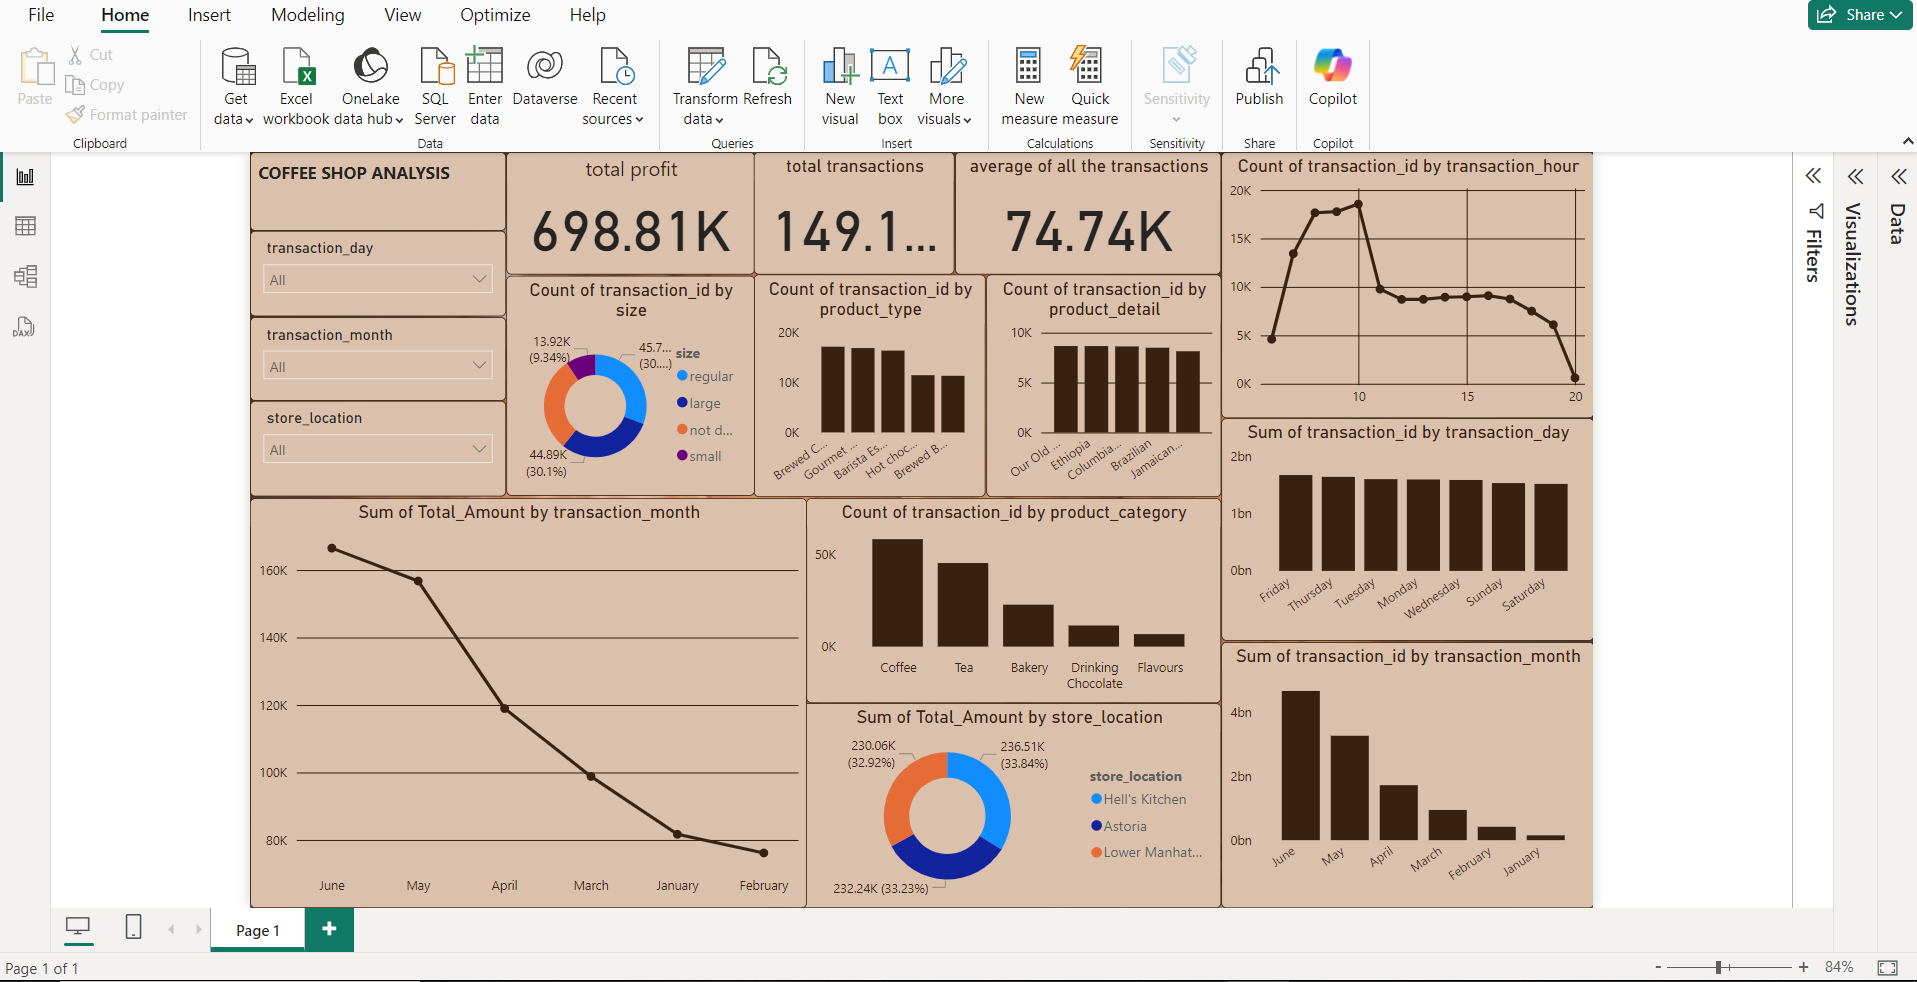

Layout of this report page (visuals, bound fields, positions):
{"tool":"powerbi","page":{"name":"Page 1","canvas":[1280,720],"ordinal":0},"visuals":[{"type":"textbox","box":[0,0,243.7,75.5],"z":0},{"type":"lineChart","fields":{"Y":["CountNonNull(Sheet1.transaction_id)"],"Category":["Sheet1.transaction_hour"]},"box":[925.1,0,354.9,253.7],"z":1000},{"type":"columnChart","fields":{"Category":["Sheet1.transaction_day"],"Y":["Sum(Sheet1.transaction_id)"]},"box":[925.1,253.7,354.9,212.4],"z":2000},{"type":"columnChart","fields":{"Y":["Sum(Sheet1.transaction_id)"],"Category":["Sheet1.transaction_month"]},"box":[925.1,466.1,354.9,253.7],"z":3000},{"type":"donutChart","fields":{"Category":["Sheet1.store_location"],"Y":["Sum(Sheet1.Total_Amount)"]},"box":[520.3,524.5,404.8,195.3],"z":4000},{"type":"lineChart","fields":{"Category":["Sheet1.transaction_month"],"Y":["Sum(Sheet1.Total_Amount)"]},"box":[0,329.3,530.2,390.6],"z":5000},{"type":"columnChart","fields":{"Category":["Sheet1.product_category"],"Y":["CountNonNull(Sheet1.transaction_id)"]},"box":[530.2,329.3,394.8,195.3],"z":6000},{"type":"columnChart","fields":{"Category":["Sheet1.product_detail"],"Y":["CountNonNull(Sheet1.transaction_id)"]},"box":[701.3,116.9,223.8,212.4],"z":7000},{"type":"slicer","fields":{"Values":["Sheet1.transaction_month"]},"box":[0,156.8,243.7,79.8],"z":8000},{"type":"card","title":"total profit","fields":{"Values":["Sum(Sheet1.Total_Amount)"]},"box":[243.7,0,236.6,116.9],"z":9000},{"type":"card","title":"total transactions","fields":{"Values":["CountNonNull(Sheet1.transaction_id)"]},"box":[480.4,0,191,116.9],"z":10000},{"type":"slicer","fields":{"Values":["Sheet1.store_location"]},"box":[0,236.6,243.7,91.2],"z":11000},{"type":"columnChart","fields":{"Category":["Sheet1.product_type"],"Y":["CountNonNull(Sheet1.transaction_id)"]},"box":[480.4,116.9,220.9,212.4],"z":12000},{"type":"slicer","fields":{"Values":["Sheet1.transaction_day"]},"box":[0,75.5,243.7,81.2],"z":13000},{"type":"donutChart","fields":{"Category":["Sheet1.size"],"Y":["CountNonNull(Sheet1.transaction_id)"]},"box":[243.7,118.3,236.6,209.5],"z":14000},{"type":"card","title":"average of all the transactions","fields":{"Values":["Avg(Sheet1.transaction_id)"]},"box":[671.4,0,253.7,116.9],"z":15000}]}

Visuals, with their boxes on the page's 1280x720 design canvas (x1, y1, x2, y2). These are canvas units, not pixel positions in the 1917x982 screenshot, which may show the page scaled, cropped or inside an application window:
textbox: rect(0, 0, 244, 76)
lineChart - CountNonNull(Sheet1.transaction_id) x Sheet1.transaction_hour: rect(925, 0, 1280, 254)
columnChart - Sheet1.transaction_day x Sum(Sheet1.transaction_id): rect(925, 254, 1280, 466)
columnChart - Sum(Sheet1.transaction_id) x Sheet1.transaction_month: rect(925, 466, 1280, 720)
donutChart - Sheet1.store_location x Sum(Sheet1.Total_Amount): rect(520, 524, 925, 720)
lineChart - Sheet1.transaction_month x Sum(Sheet1.Total_Amount): rect(0, 329, 530, 720)
columnChart - Sheet1.product_category x CountNonNull(Sheet1.transaction_id): rect(530, 329, 925, 525)
columnChart - Sheet1.product_detail x CountNonNull(Sheet1.transaction_id): rect(701, 117, 925, 329)
slicer - Sheet1.transaction_month: rect(0, 157, 244, 237)
"total profit" card: rect(244, 0, 480, 117)
"total transactions" card: rect(480, 0, 671, 117)
slicer - Sheet1.store_location: rect(0, 237, 244, 328)
columnChart - Sheet1.product_type x CountNonNull(Sheet1.transaction_id): rect(480, 117, 701, 329)
slicer - Sheet1.transaction_day: rect(0, 76, 244, 157)
donutChart - Sheet1.size x CountNonNull(Sheet1.transaction_id): rect(244, 118, 480, 328)
"average of all the transactions" card: rect(671, 0, 925, 117)
